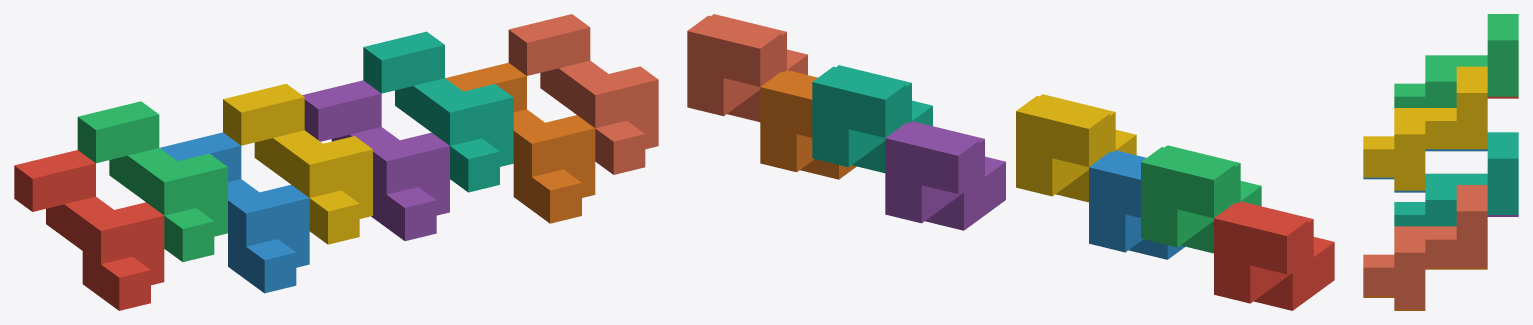
Rendered from tiling.obj.
The picture shows the model from 3 angles, left to right: view 1: azimuth 30°, elevation 25°; view 2: azimuth 150°, elevation 25°; view 3: azimuth 270°, elevation 25°; orthographic projection. The views are drawn at different scales.
Visible parts, largest first — view 1: copy_1_domain_1, copy_1_domain_8, copy_1_domain_3, copy_1_domain_7, copy_1_domain_4, copy_1_domain_5, copy_1_domain_6, copy_1_domain_2; view 2: copy_1_domain_5, copy_1_domain_1, copy_1_domain_7, copy_1_domain_8, copy_1_domain_4, copy_1_domain_3, copy_1_domain_6, copy_1_domain_2; view 3: copy_1_domain_4, copy_1_domain_8, copy_1_domain_7, copy_1_domain_3, copy_1_domain_2, copy_1_domain_6.
Part boxes in pixels (x1=…): copy_1_domain_1: x1=14, y1=150, x2=164, y2=310; copy_1_domain_8: x1=508, y1=14, x2=658, y2=174; copy_1_domain_3: x1=77, y1=101, x2=227, y2=261; copy_1_domain_7: x1=363, y1=31, x2=513, y2=192; copy_1_domain_4: x1=223, y1=83, x2=372, y2=244; copy_1_domain_5: x1=302, y1=80, x2=449, y2=240; copy_1_domain_6: x1=445, y1=62, x2=595, y2=223; copy_1_domain_2: x1=160, y1=132, x2=309, y2=293; copy_1_domain_5: x1=885, y1=121, x2=1005, y2=230; copy_1_domain_1: x1=1214, y1=201, x2=1334, y2=310; copy_1_domain_7: x1=812, y1=65, x2=932, y2=173; copy_1_domain_8: x1=687, y1=14, x2=807, y2=121; copy_1_domain_4: x1=1016, y1=94, x2=1136, y2=202; copy_1_domain_3: x1=1141, y1=145, x2=1261, y2=253; copy_1_domain_6: x1=760, y1=70, x2=856, y2=179; copy_1_domain_2: x1=1089, y1=150, x2=1185, y2=259; copy_1_domain_4: x1=1363, y1=66, x2=1487, y2=190; copy_1_domain_8: x1=1363, y1=185, x2=1487, y2=308; copy_1_domain_7: x1=1394, y1=132, x2=1518, y2=226; copy_1_domain_3: x1=1394, y1=14, x2=1518, y2=107; copy_1_domain_2: x1=1363, y1=149, x2=1487, y2=192; copy_1_domain_6: x1=1363, y1=267, x2=1487, y2=310.
Size of the model in its own units: 18 by 4 by 5.
